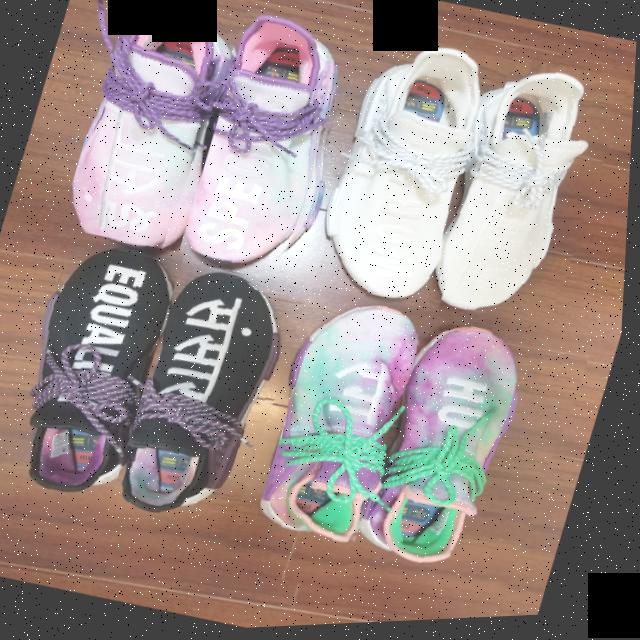shoe: (343, 314, 596, 627), (420, 40, 637, 344), (312, 18, 519, 329), (245, 284, 443, 603), (0, 217, 188, 530), (111, 273, 309, 567), (51, 0, 251, 285), (177, 1, 367, 290)
